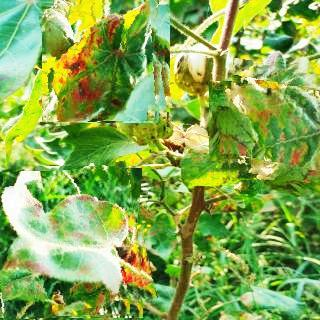blight: (0, 166, 151, 320), (42, 0, 169, 122), (220, 61, 320, 180)
